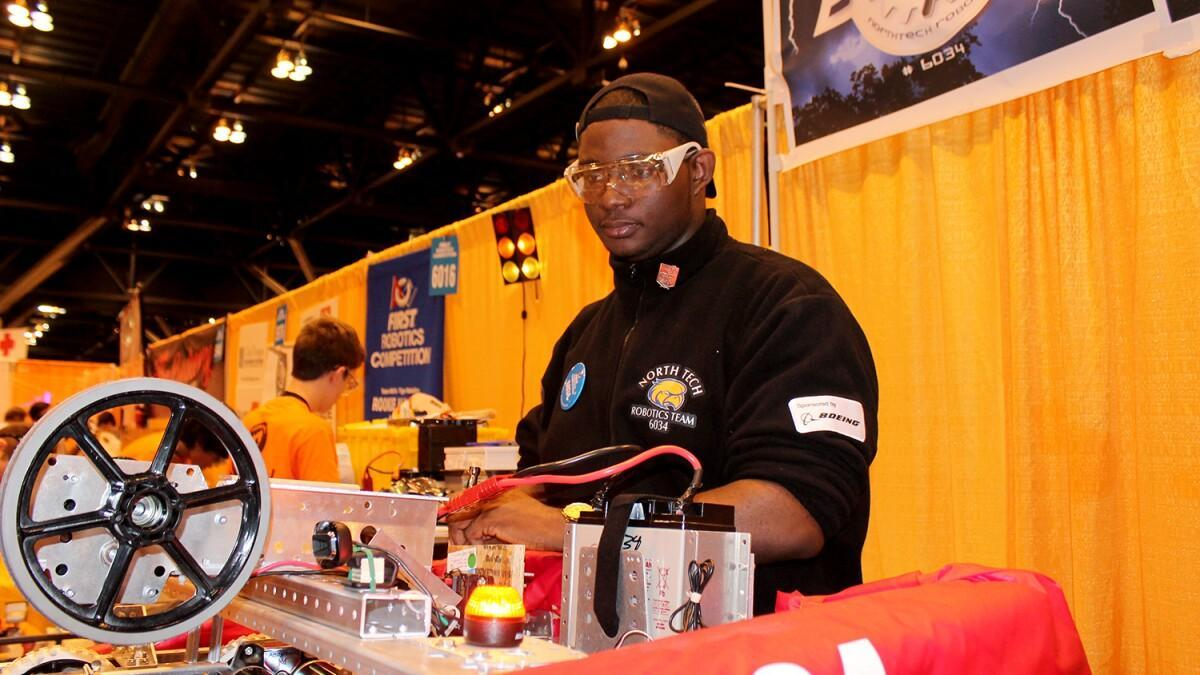robot: (0, 370, 1114, 675)
